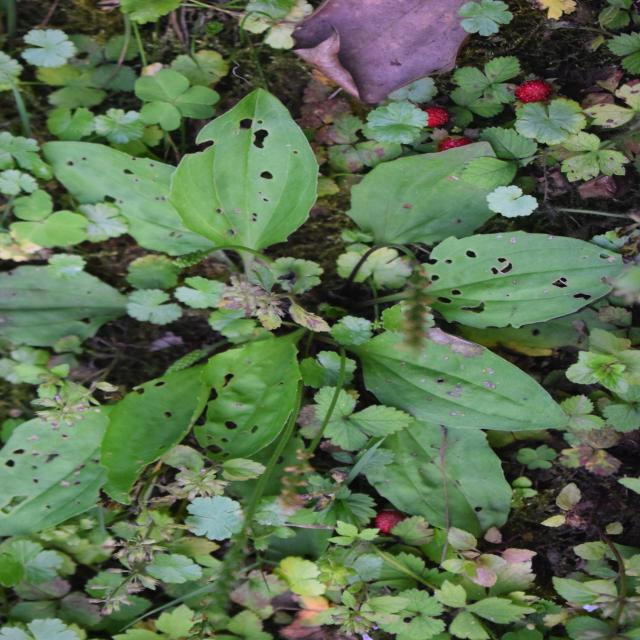plantain: (102, 0, 503, 590)
